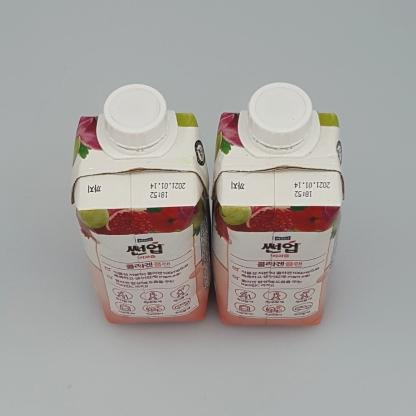--------------330ML: (70, 84, 211, 324), (210, 82, 345, 326)
